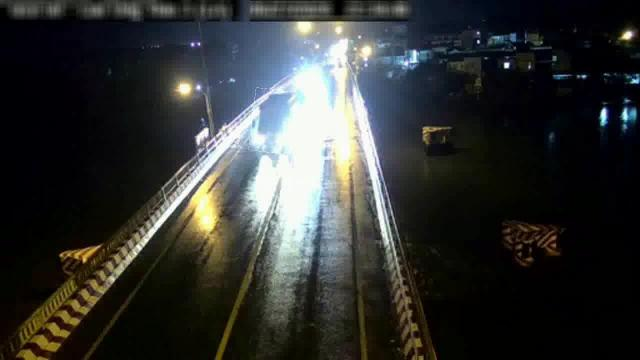Car: (250, 89, 296, 153)
